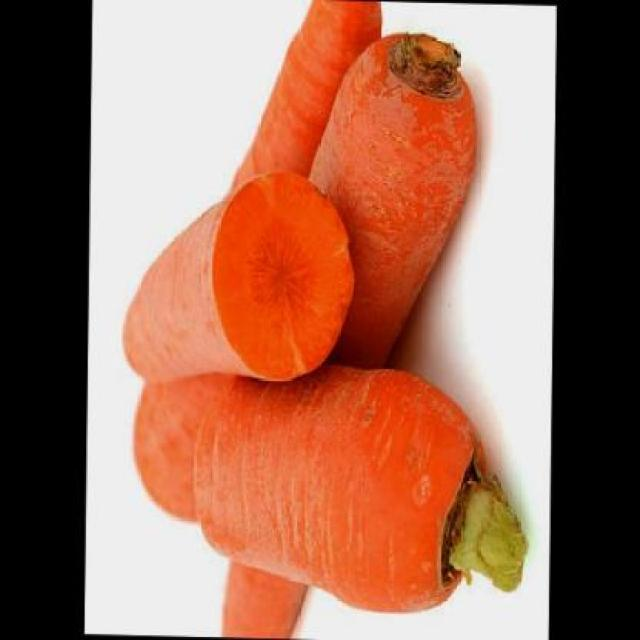carrot: (220, 27, 478, 639), (194, 352, 488, 613), (121, 164, 359, 390), (229, 0, 383, 198)
